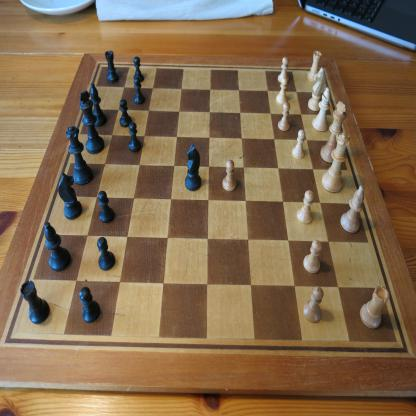black-bishop: (44, 221, 71, 272), (90, 82, 107, 127)
black-king: (78, 90, 104, 154)
black-knight: (58, 171, 82, 221), (184, 144, 202, 191)
black-pawn: (79, 286, 100, 323), (96, 236, 115, 272), (97, 190, 115, 224), (128, 121, 142, 152), (119, 98, 132, 128), (134, 76, 146, 105), (133, 55, 144, 82)
black-queen: (64, 125, 93, 186)
black-rook: (19, 280, 51, 324), (104, 50, 119, 84)
white-bishop: (340, 184, 365, 233), (312, 87, 331, 132)
white-king: (320, 100, 347, 163)
white-knight: (307, 66, 326, 112)
white-pawn: (314, 295, 336, 330), (304, 241, 322, 276), (295, 197, 312, 232), (222, 159, 237, 192), (292, 129, 306, 160), (278, 102, 291, 132), (276, 76, 288, 104), (278, 57, 289, 84)
white-queen: (322, 133, 350, 193)
white-rook: (359, 284, 390, 330), (307, 50, 322, 83)
